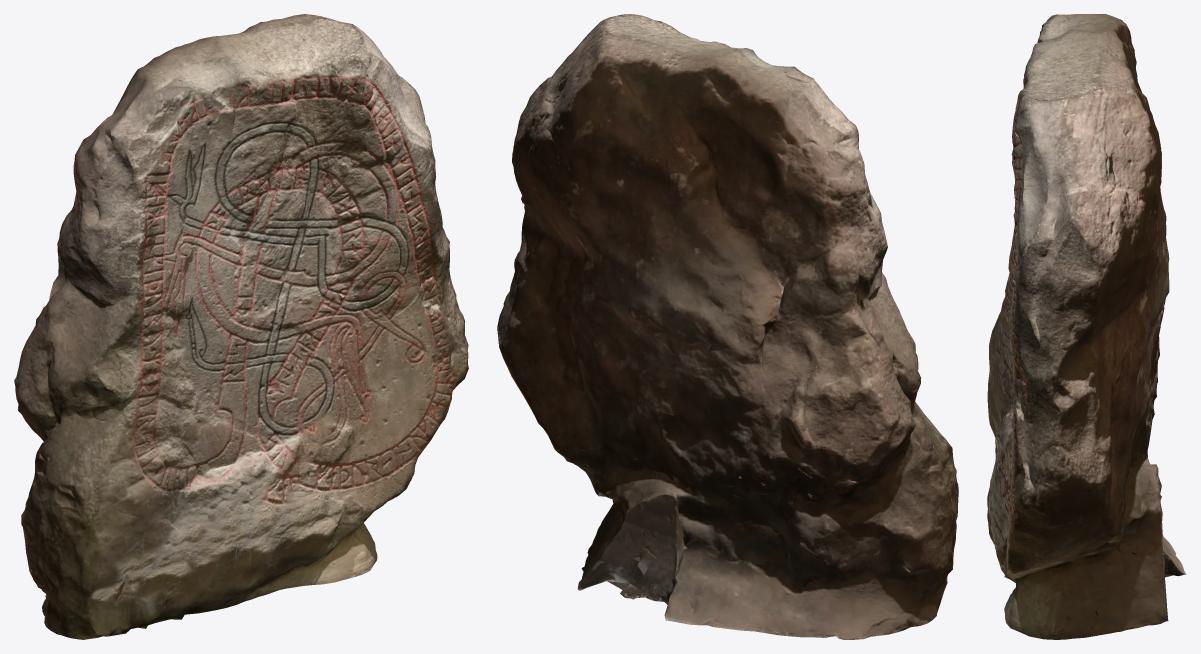
The model's file is root-tablet.glb.
3 renders of one model, left to right at view 1: azimuth 30°, elevation 25°; view 2: azimuth 150°, elevation 25°; view 3: azimuth 270°, elevation 25°, orthographic. The views are drawn at different scales.
Visible parts, largest first — view 1: Object_2; view 2: Object_2; view 3: Object_2.
Boxes of the visible parts, x1,y1,x2,y2 form: Object_2: (14,14,468,639); Object_2: (497,14,958,639); Object_2: (987,14,1186,639).
Size of the model in its own units: 26.9 by 31.36 by 10.45.
1 material, 1 textured.
